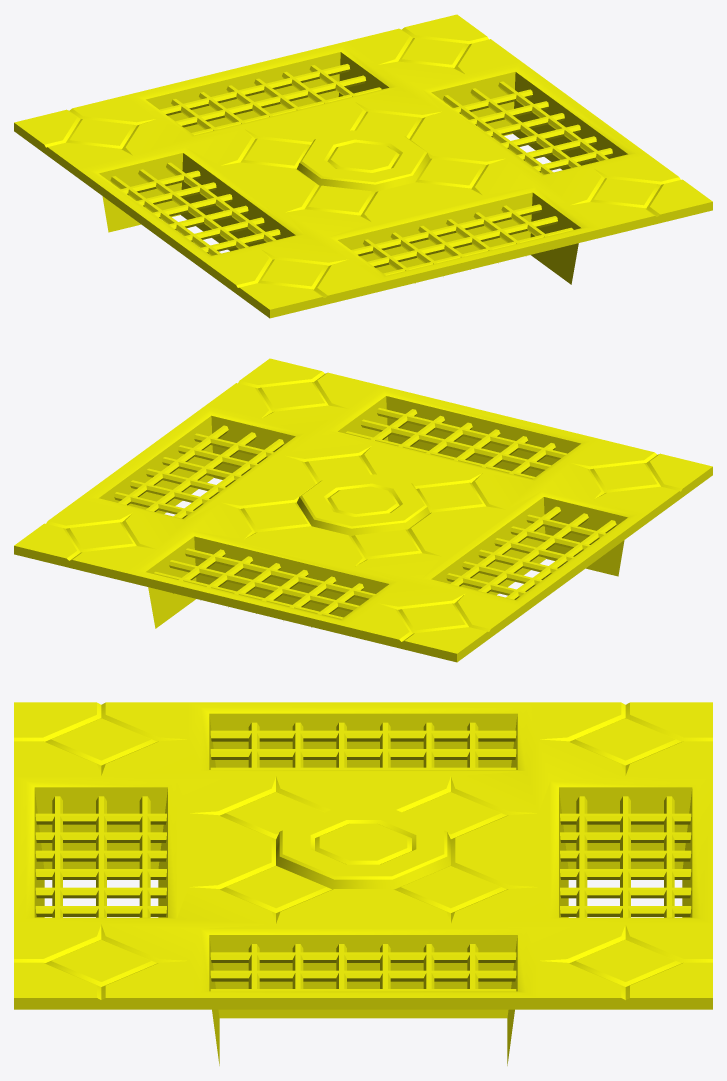
The model's file is kaykit-floor-tile-extralarge-grates-open.glb.
3 views of the same model, one above another, from view 1: azimuth 30°, elevation 25°; view 2: azimuth 150°, elevation 25°; view 3: azimuth 270°, elevation 25° (orthographic). The views are drawn at different scales.
Visible parts, largest first — view 1: floor_tile_extralarge_grates_open; view 2: floor_tile_extralarge_grates_open; view 3: floor_tile_extralarge_grates_open.
Boxes of the visible parts, x1,y1,x2,y2 form: floor_tile_extralarge_grates_open: (14,14,712,318); floor_tile_extralarge_grates_open: (14,358,712,662); floor_tile_extralarge_grates_open: (14,702,712,1065).
Size of the model in its own units: 8 by 1.13 by 8.
